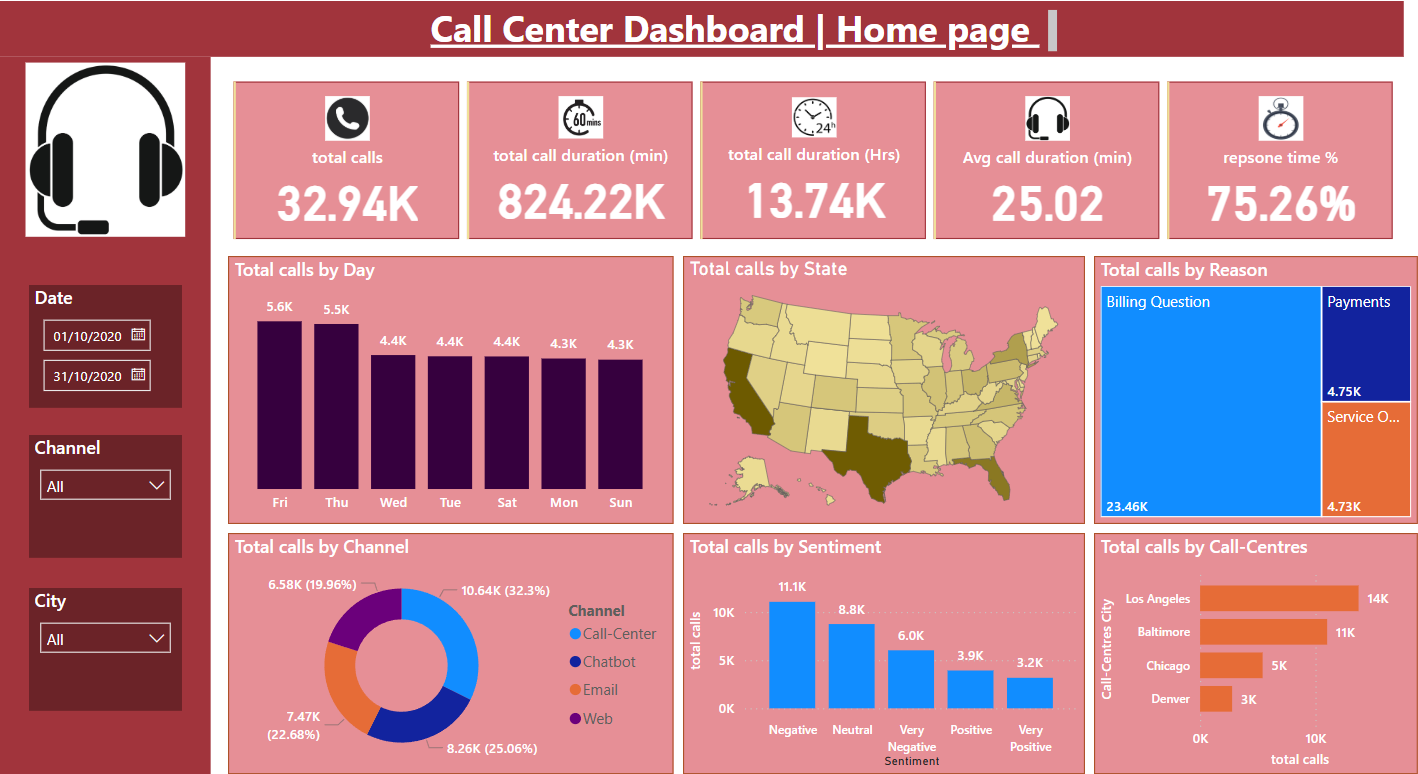

Layout of this report page (visuals, bound fields, positions):
{"tool":"powerbi","page":{"name":"Home","canvas":[1280,720],"ordinal":0},"visuals":[{"type":"shape","box":[9.8,12.2,1258.3,50],"z":0},{"type":"shape","box":[9.8,62.4,189.5,644.4],"z":1000},{"type":"cardVisual","fields":{"Data":["Call Center dataset.total calls","Call Center dataset.total call duration (min)","Call Center dataset.total call duration (Hrs)","Call Center dataset.Avg call duration (min)","Call Center dataset.repsone time %"]},"box":[215.2,79.5,1052.9,151.6],"z":2000},{"type":"textbox","box":[391.3,12.2,571.1,50.1],"z":3000},{"type":"columnChart","title":"Total calls by Day","fields":{"Category":["Date Table.Day"],"Y":["Call Center dataset.total calls"]},"box":[215.2,240.9,398.6,239.7],"z":4000},{"type":"treemap","title":"Total calls by Reason","fields":{"Group":["Call Center dataset.Reason"],"Values":["Call Center dataset.total calls"]},"box":[990.5,240.9,289.8,239.7],"z":5000},{"type":"shapeMap","title":"Total calls by State","fields":{"Category":["Call Center dataset.State"],"Value":["Call Center dataset.total calls"]},"box":[622.4,240.9,359.5,239.7],"z":6000},{"type":"donutChart","title":"Total calls by Channel","fields":{"Category":["Call Center dataset.Channel"],"Y":["Call Center dataset.total calls"]},"box":[215.2,489.1,398.6,216.4],"z":7000},{"type":"columnChart","title":"Total calls by Sentiment","fields":{"Category":["Call Center dataset.Sentiment"],"Y":["Call Center dataset.total calls"]},"box":[622,489,360,216],"z":8000},{"type":"barChart","title":"Total calls by Call-Centres ","fields":{"Category":["Call Center dataset.Call-Centres City"],"Y":["Call Center dataset.total calls"]},"box":[990,489,290,216],"z":9000},{"type":"slicer","title":"Date","fields":{"Values":["Date Table.Date"]},"box":[36.7,266.6,137,110],"z":10000},{"type":"slicer","title":"Channel","fields":{"Values":["Call Center dataset.Channel"]},"box":[36.7,401.1,137,110],"z":11000},{"type":"slicer","title":"City","fields":{"Values":["Call Center dataset.City"]},"box":[36.7,538,137,110],"z":12000},{"type":"image","box":[20.8,62.4,170,166.3],"z":12001}]}

Visuals, with their boxes in screenshot pixels (x1, y1, x2, y2):
shape: (left=3, top=0, right=1389, bottom=54)
shape: (left=3, top=54, right=212, bottom=764)
cardVisual - Call Center dataset.total calls x Call Center dataset.total call duration (min): (left=230, top=73, right=1389, bottom=240)
textbox: (left=424, top=0, right=1052, bottom=54)
"Total calls by Day" columnChart: (left=230, top=251, right=669, bottom=514)
"Total calls by Reason" treemap: (left=1083, top=251, right=1402, bottom=514)
"Total calls by State" shapeMap: (left=678, top=251, right=1074, bottom=514)
"Total calls by Channel" donutChart: (left=230, top=524, right=669, bottom=762)
"Total calls by Sentiment" columnChart: (left=678, top=524, right=1074, bottom=762)
"Total calls by Call-Centres " barChart: (left=1083, top=524, right=1402, bottom=762)
"Date" slicer: (left=33, top=279, right=184, bottom=400)
"Channel" slicer: (left=33, top=427, right=184, bottom=548)
"City" slicer: (left=33, top=578, right=184, bottom=699)
image: (left=16, top=54, right=203, bottom=237)
